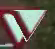Give way: (1, 2, 46, 45)
